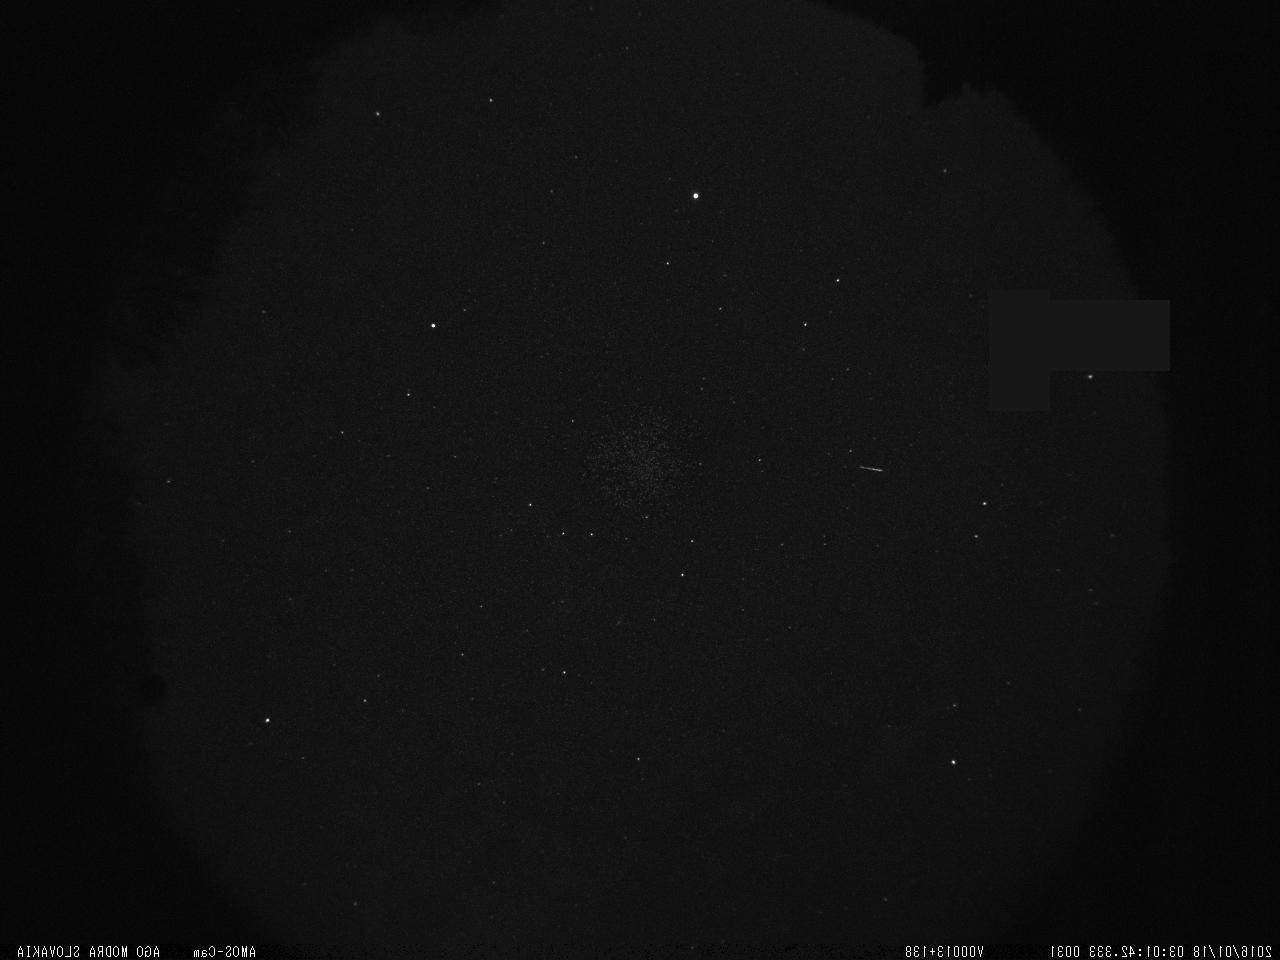meteor: (845, 460, 892, 479)
